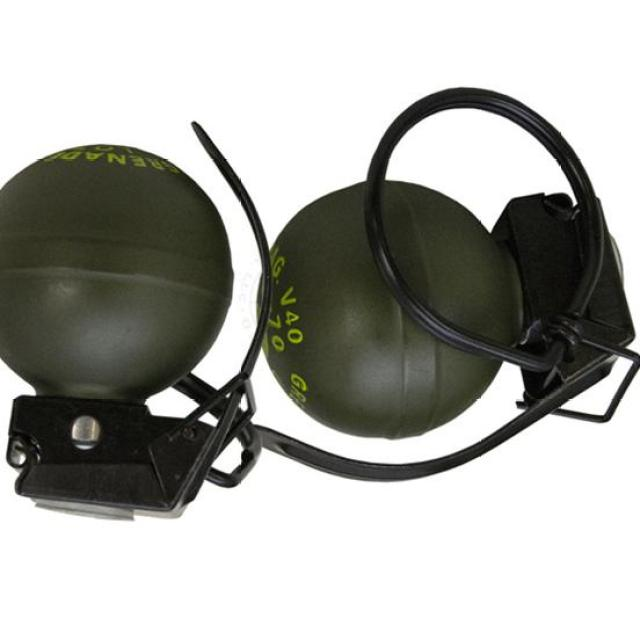grenade: (256, 86, 640, 486), (2, 120, 271, 525)
